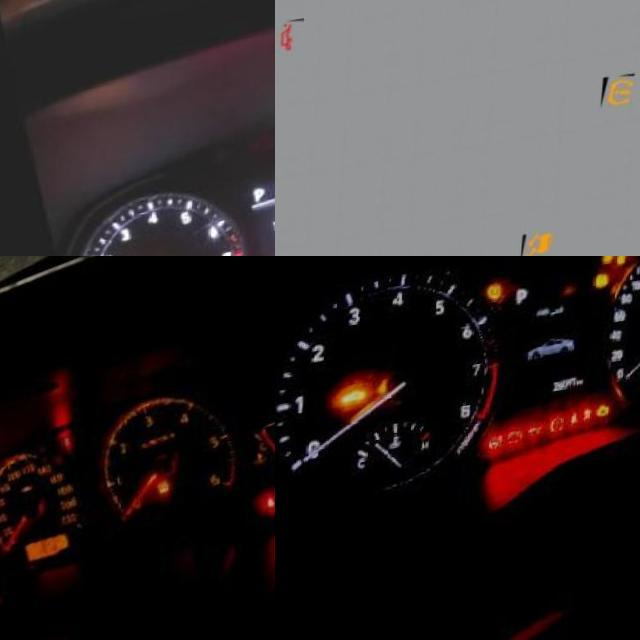Engine cooling system: (241, 464, 263, 485)
Seat Belt: (563, 432, 577, 451)
